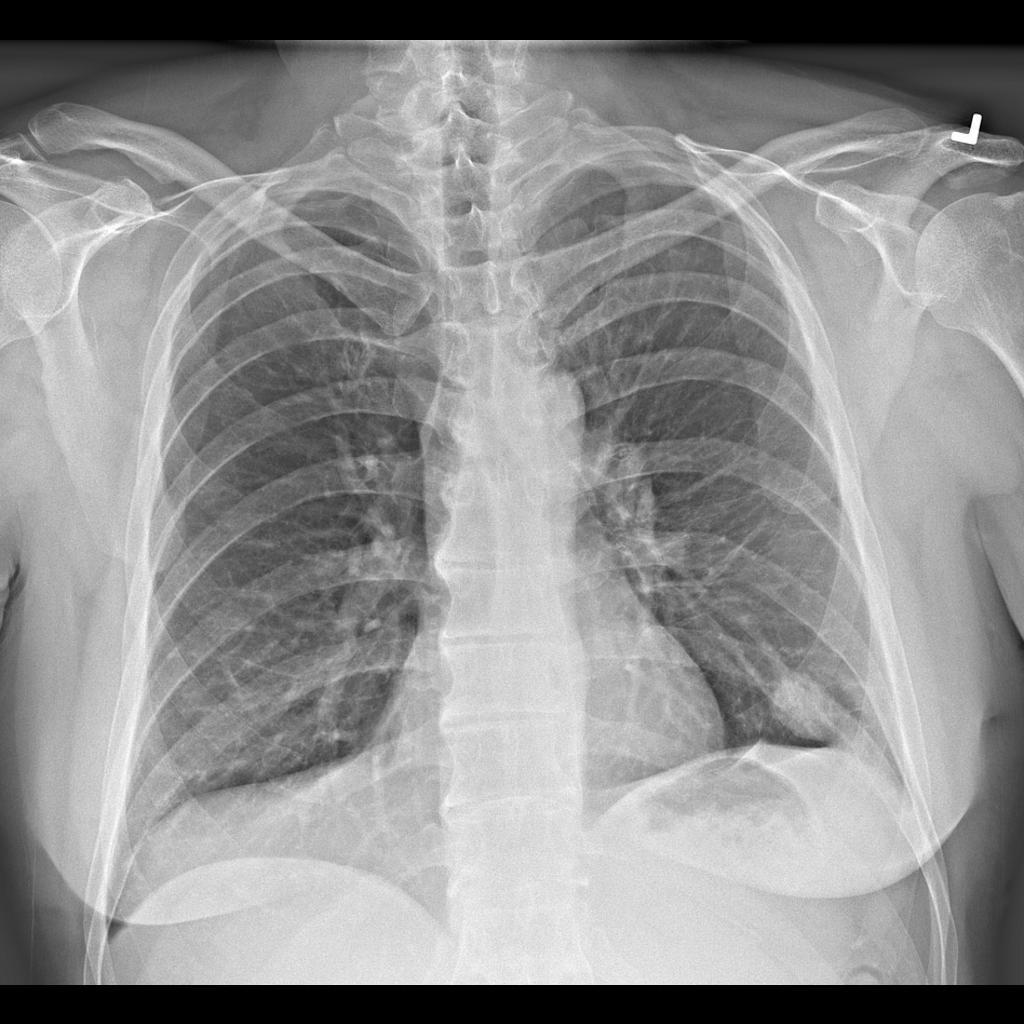Nodule: (758, 661, 846, 744)
